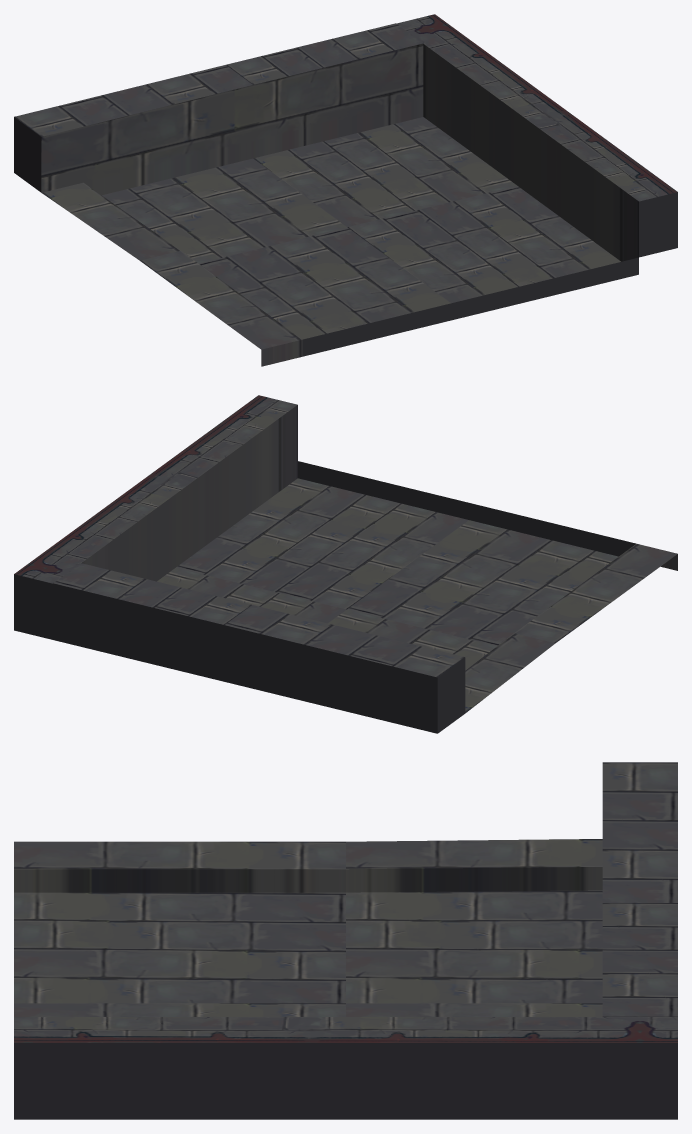
The model's file is Channel_Floor_Corner.glb.
3 renders of one model, top to bottom at view 1: azimuth 30°, elevation 25°; view 2: azimuth 150°, elevation 25°; view 3: azimuth 270°, elevation 25°, orthographic. The views are drawn at different scales.
Visible parts, largest first — view 1: Channel Corner; view 2: Channel Corner; view 3: Channel Corner.
Boxes of the visible parts, left/top/right/bottom form: Channel Corner: left=14, top=14, right=677, bottom=366; Channel Corner: left=14, top=395, right=677, bottom=733; Channel Corner: left=14, top=762, right=677, bottom=1119.
Bounding box in the file's own units: 4.05 × 0.676 × 4.05.
Materials: 1 (1 with a texture image).
